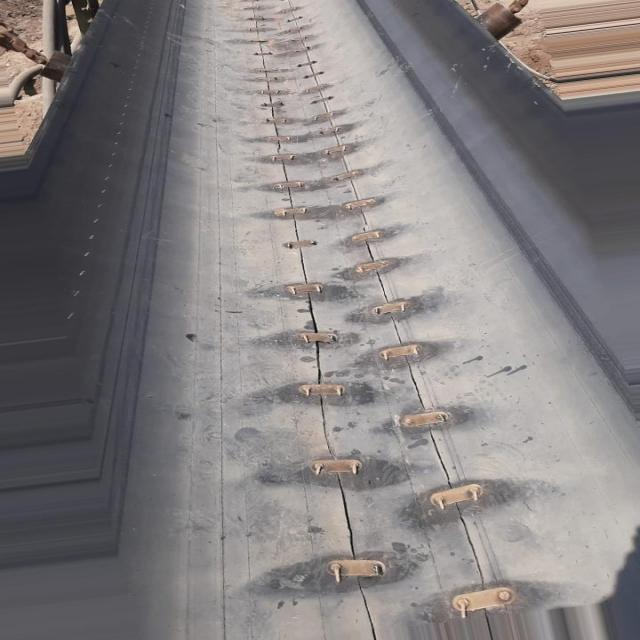Roller: (467, 0, 524, 45), (37, 50, 79, 80)
patch work: (216, 0, 545, 625)
